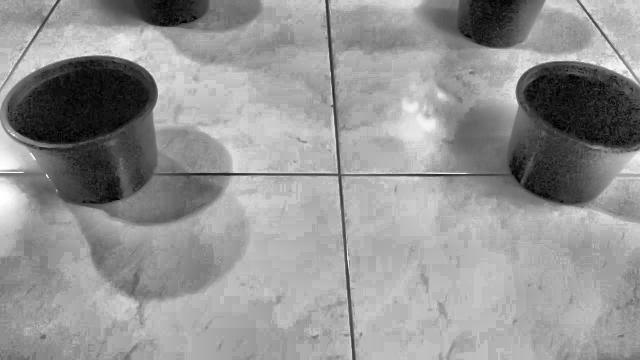pot: (0, 56, 157, 204), (508, 62, 640, 204)
